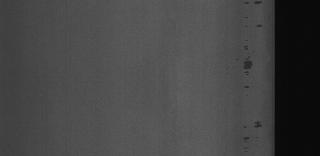oil spot: (240, 43, 253, 94), (242, 12, 250, 38), (242, 130, 252, 146), (242, 0, 264, 7), (252, 122, 264, 130), (256, 22, 264, 30)
